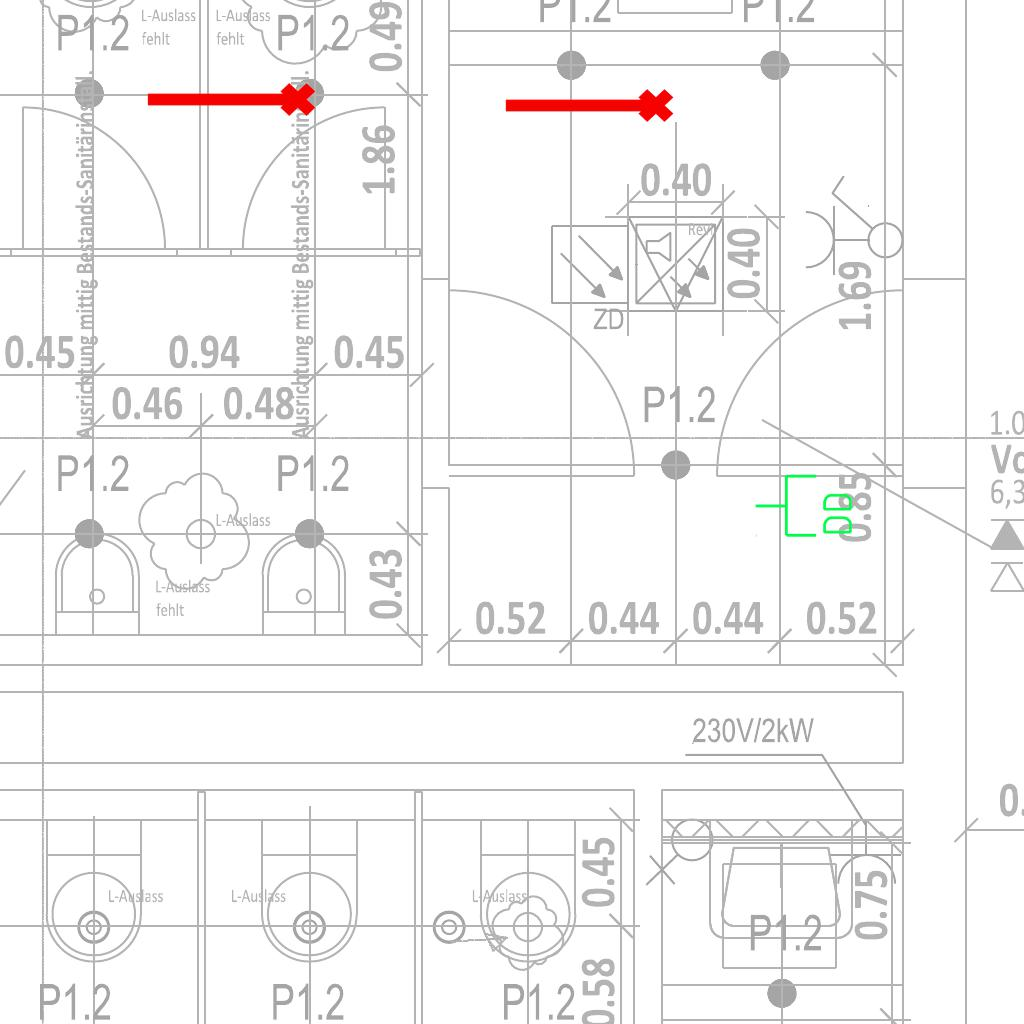ASR_Ansaugoeffnung: (500, 85, 676, 131), (142, 79, 318, 125)
Datenanschluss_zweifach: (753, 472, 856, 541)
